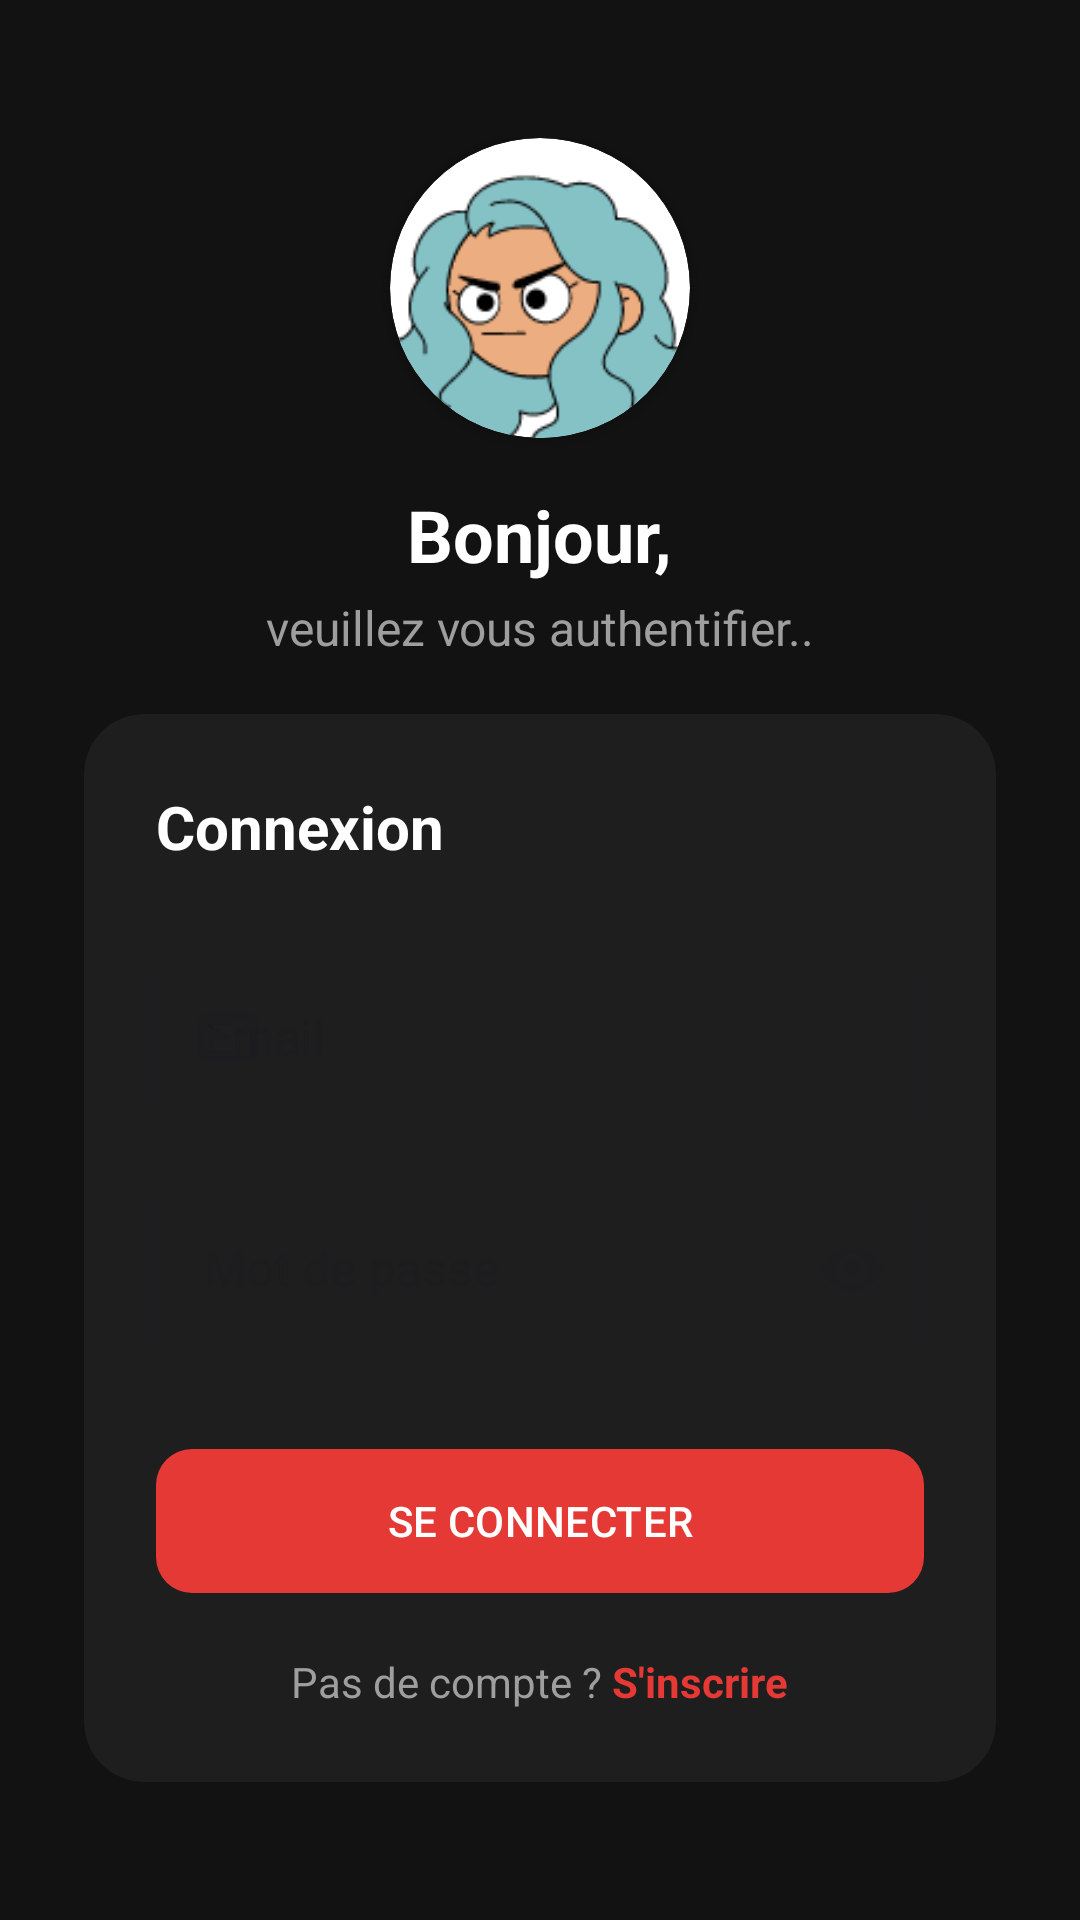

Where icons sit on this 1080x1920 app screen, as (x1, y1, x2, y2):
Avatar Coach: (390, 138, 690, 438)
